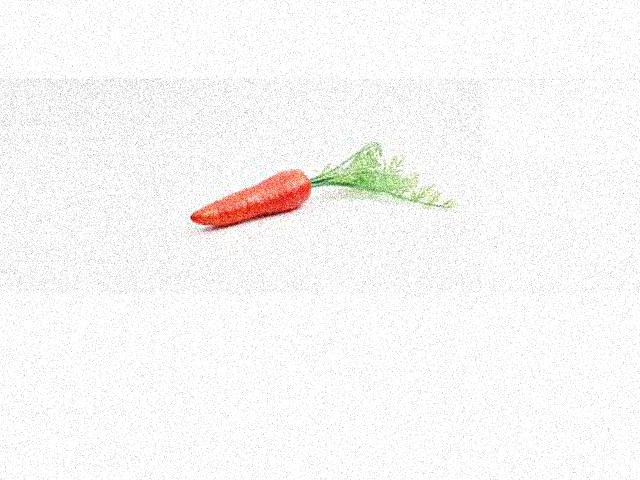carrot: (178, 171, 313, 241)
